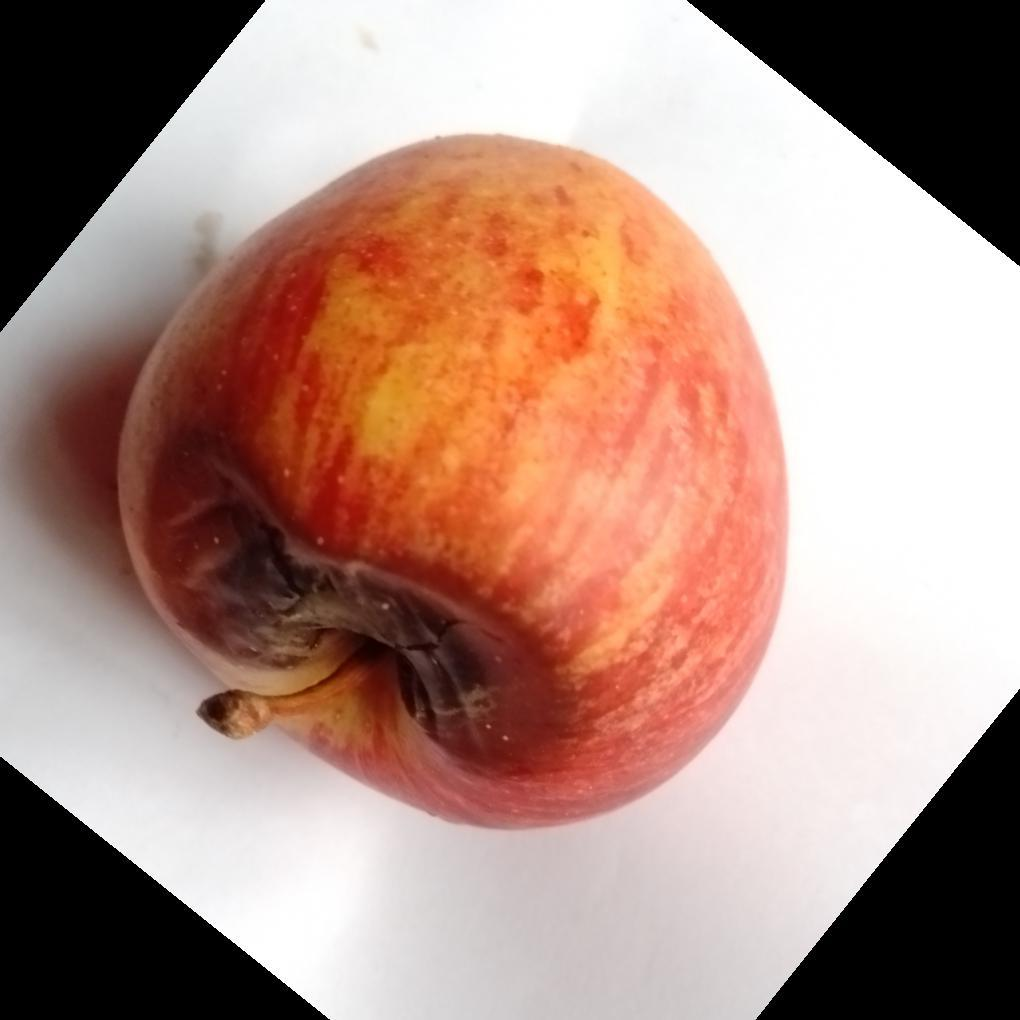FreshOrange: (114, 135, 791, 834)
